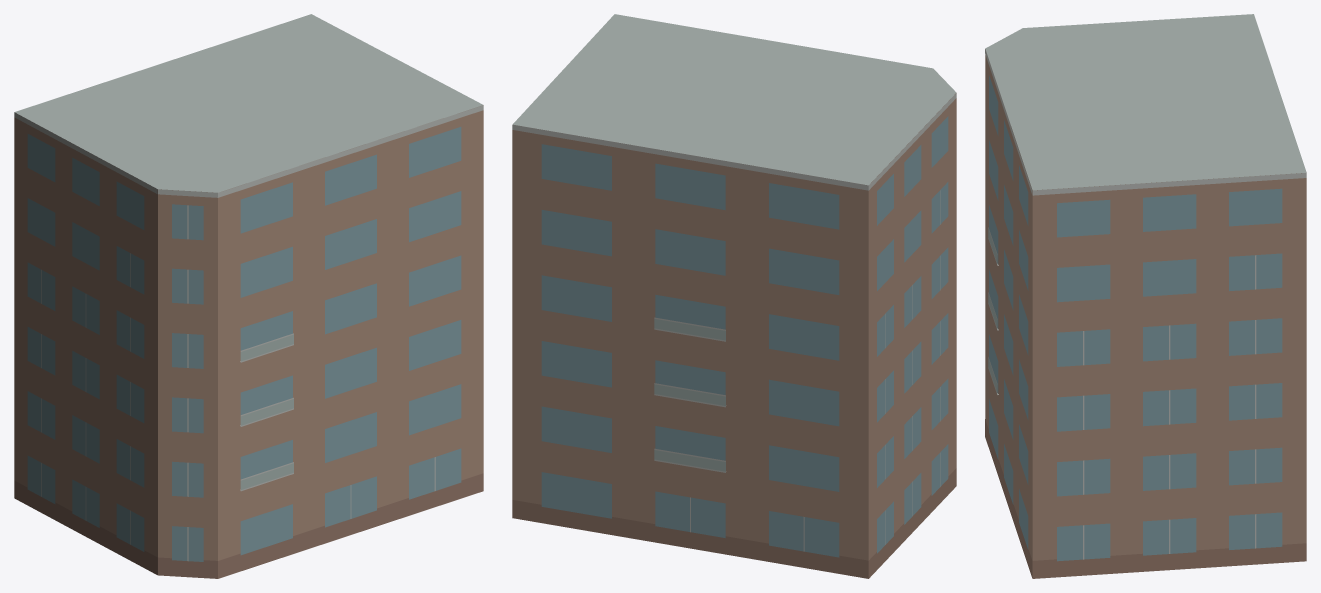
Rendered from survey-upis-32915537.glb.
3 renders of one model, left to right at view 1: azimuth 30°, elevation 25°; view 2: azimuth 150°, elevation 25°; view 3: azimuth 270°, elevation 25°, orthographic.
Visible parts, largest first — view 1: survey-upis-32915537.tmp; view 2: survey-upis-32915537.tmp; view 3: survey-upis-32915537.tmp.
Boxes of the visible parts, x1=… form: survey-upis-32915537.tmp: x1=14, y1=14, x2=483, y2=578; survey-upis-32915537.tmp: x1=512, y1=14, x2=956, y2=578; survey-upis-32915537.tmp: x1=985, y1=14, x2=1306, y2=578.
Bounding box in the file's own units: 17.83 × 18.3 × 13.74.
